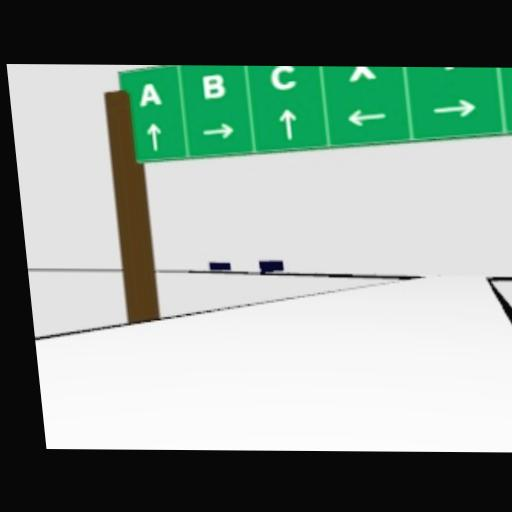A: (136, 81, 161, 105)
B: (200, 71, 227, 98)
C: (268, 65, 298, 89)
Left: (343, 108, 386, 125)
Right: (431, 97, 476, 117), (200, 121, 234, 138)
Straight: (277, 107, 300, 139), (144, 122, 162, 150)
X: (346, 66, 376, 80)
Y: (444, 66, 454, 68)
